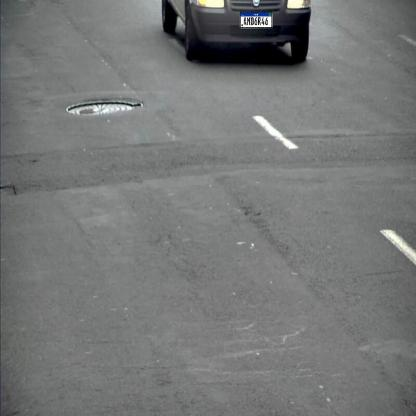PlacaM: (240, 12, 272, 28)
